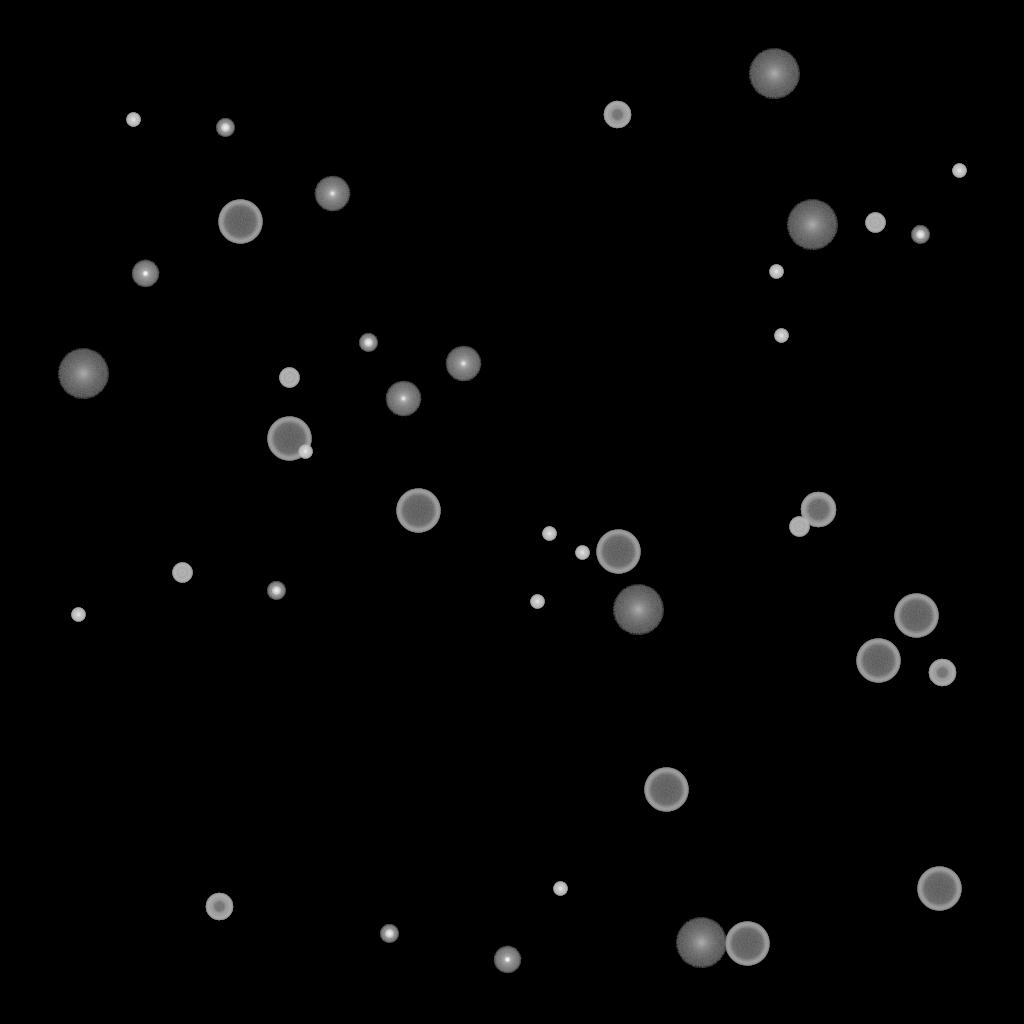depth:-10: (493, 946, 521, 974), (131, 260, 159, 288)
depth:-20: (359, 334, 377, 352), (911, 226, 929, 244), (216, 119, 234, 137), (267, 582, 285, 600), (380, 925, 398, 943)
depth:-30: (71, 608, 85, 622), (542, 527, 556, 541), (553, 882, 567, 896), (530, 595, 544, 609), (769, 265, 783, 279), (575, 546, 589, 560), (126, 113, 140, 127), (774, 329, 788, 343), (952, 164, 966, 178), (298, 445, 312, 459)
depth:-40: (279, 368, 299, 388), (172, 563, 192, 583), (865, 213, 885, 233), (789, 517, 809, 537)
depth:-50: (928, 659, 956, 687), (205, 893, 233, 921), (603, 101, 631, 129)
depth:-60: (800, 492, 836, 528)
depth:-70: (894, 594, 938, 638), (396, 489, 440, 533), (644, 768, 688, 812), (725, 922, 769, 966), (856, 639, 900, 683), (917, 867, 961, 911), (267, 417, 311, 461), (596, 530, 640, 574), (218, 200, 262, 244)
depth:0: (385, 381, 421, 417), (314, 176, 350, 212), (445, 346, 481, 382)
depth:20: (675, 918, 727, 968), (786, 200, 838, 250), (57, 349, 109, 399), (612, 585, 664, 635), (748, 49, 800, 99)
